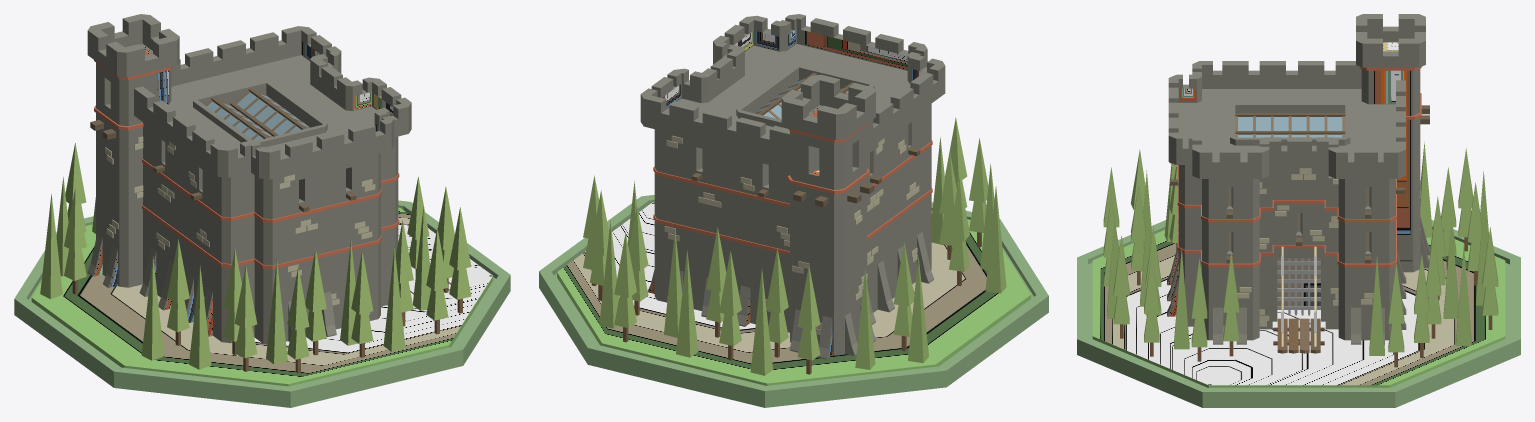
The model's file is castle.obj.
The picture shows the model from 3 angles, left to right: view 1: azimuth 30°, elevation 25°; view 2: azimuth 150°, elevation 25°; view 3: azimuth 270°, elevation 25°; orthographic projection. The views are drawn at different scales.
Visible parts, largest first — view 1: Castle_, Platform, Tree_2.15, Tree_2.13, Tree_2.18, Tree_2.11, Tree_2.9, Tree_2.8, Tree_2.7, Tree_2.6, Tree_1.11, Tree_1.8 (+11 smaller); view 2: Castle_, Platform, Tree_2.19, Tree_2.4, Tree_2.3, Tree_2.1, Tree_2.13, Tree_2.18, Tree_1, Tree_1.1, Tree_2, Tree_2.15 (+12 smaller); view 3: Castle_, Platform, Tree_2.22, Tree_2.10, Tree_2.21, Tree_2.4, Tree_2.7, Tree_2.20, Tree_2.11, Tree_2.2, Tree_2.6, Tree_2.19 (+16 smaller).
Boxes of the visible parts, x1=… form: Castle_: x1=87, y1=14, x2=411, y2=344; Platform: x1=14, y1=200, x2=510, y2=407; Tree_2.15: x1=234, y1=265, x2=257, y2=371; Tree_2.13: x1=167, y1=239, x2=189, y2=345; Tree_2.18: x1=64, y1=188, x2=86, y2=294; Tree_2.11: x1=449, y1=207, x2=471, y2=313; Tree_2.9: x1=351, y1=251, x2=373, y2=357; Tree_2.8: x1=287, y1=267, x2=309, y2=373; Tree_2.7: x1=426, y1=228, x2=448, y2=334; Tree_2.6: x1=305, y1=249, x2=326, y2=355; Tree_1.11: x1=40, y1=194, x2=62, y2=298; Tree_1.8: x1=141, y1=256, x2=164, y2=360; Castle_: x1=640, y1=14, x2=945, y2=359; Platform: x1=539, y1=195, x2=1048, y2=407; Tree_2.19: x1=797, y1=265, x2=820, y2=374; Tree_2.4: x1=614, y1=233, x2=636, y2=342; Tree_2.3: x1=719, y1=251, x2=741, y2=360; Tree_2.1: x1=766, y1=248, x2=788, y2=357; Tree_2.13: x1=948, y1=176, x2=969, y2=286; Tree_2.18: x1=893, y1=242, x2=914, y2=351; Tree_1: x1=676, y1=249, x2=698, y2=357; Tree_1.1: x1=750, y1=268, x2=773, y2=375; Tree_2: x1=706, y1=227, x2=726, y2=337; Tree_2.15: x1=969, y1=138, x2=988, y2=247; Castle_: x1=1167, y1=14, x2=1429, y2=353; Platform: x1=1077, y1=220, x2=1520, y2=407; Tree_2.22: x1=1223, y1=253, x2=1239, y2=356; Tree_2.10: x1=1191, y1=258, x2=1207, y2=361; Tree_2.21: x1=1388, y1=264, x2=1404, y2=367; Tree_2.4: x1=1482, y1=227, x2=1498, y2=329; Tree_2.7: x1=1113, y1=236, x2=1129, y2=338; Tree_2.20: x1=1414, y1=254, x2=1429, y2=357; Tree_2.11: x1=1144, y1=253, x2=1159, y2=356; Tree_2.2: x1=1426, y1=236, x2=1441, y2=338; Tree_2.6: x1=1131, y1=182, x2=1145, y2=285; Tree_2.19: x1=1458, y1=148, x2=1473, y2=251.
Size of the model in its own units: 810 by 497 by 810.
1 material, 1 textured.
